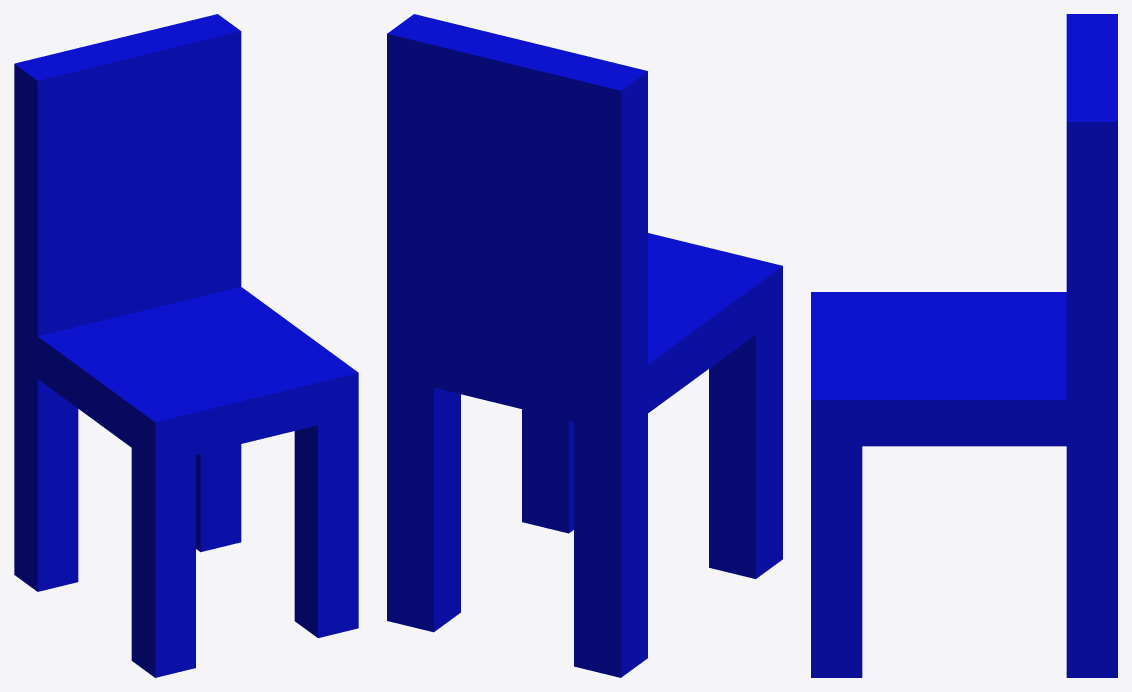
File: chair.fbx
The picture shows the model from 3 angles, left to right: view 1: azimuth 30°, elevation 25°; view 2: azimuth 150°, elevation 25°; view 3: azimuth 270°, elevation 25°; orthographic projection. The views are drawn at different scales.
Parts seen in each view (by area): view 1: Mesh; view 2: Mesh; view 3: Mesh.
Boxes of the visible parts, x1,y1,x2,y2 form: Mesh: (14, 14, 358, 677); Mesh: (387, 14, 782, 677); Mesh: (811, 14, 1117, 677).
Size of the model in its own units: 100 by 240 by 120.
